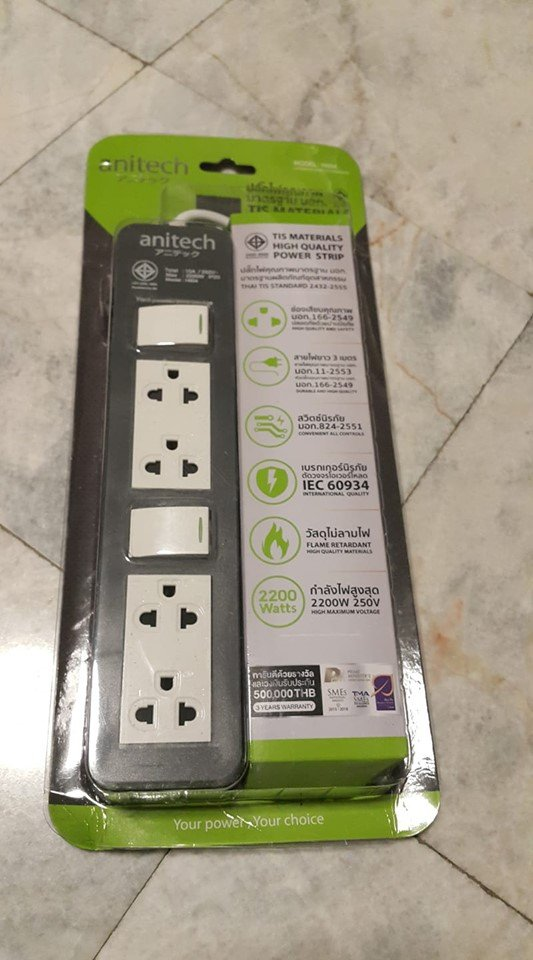Three_eye_plug: (82, 213, 275, 806)
